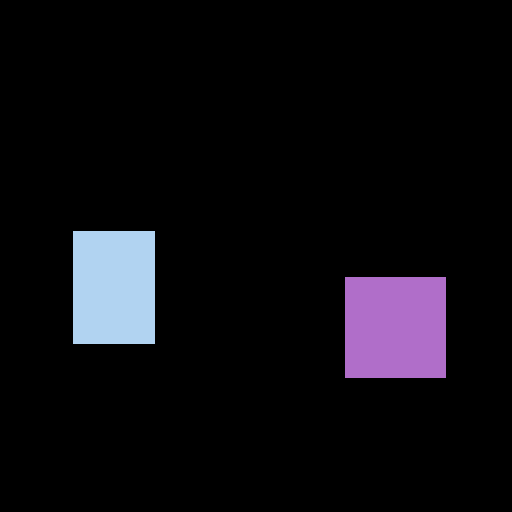rectangle: (73, 231, 154, 343)
square: (345, 277, 445, 377)
